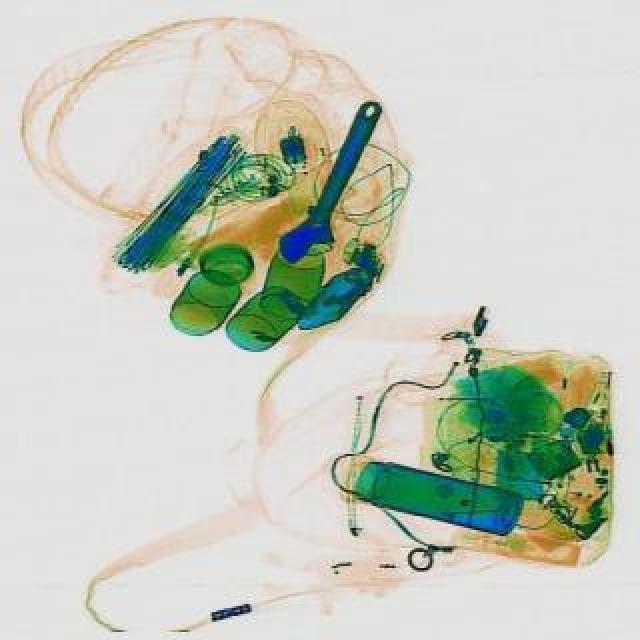scissors: (270, 94, 398, 274)
